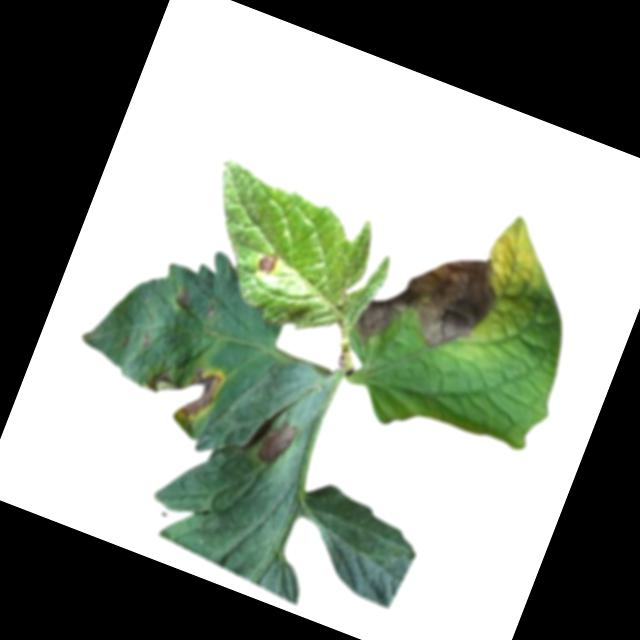Early_blight: (348, 223, 509, 385), (139, 348, 226, 425), (254, 415, 301, 472), (253, 250, 279, 279), (173, 289, 195, 311)
